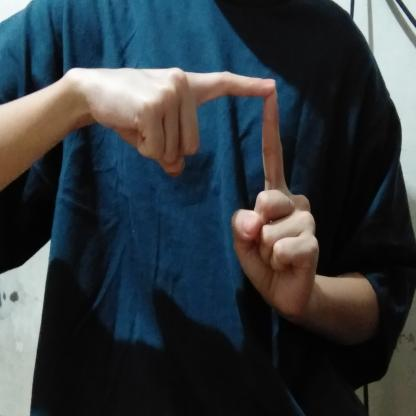when: (62, 47, 320, 334)
